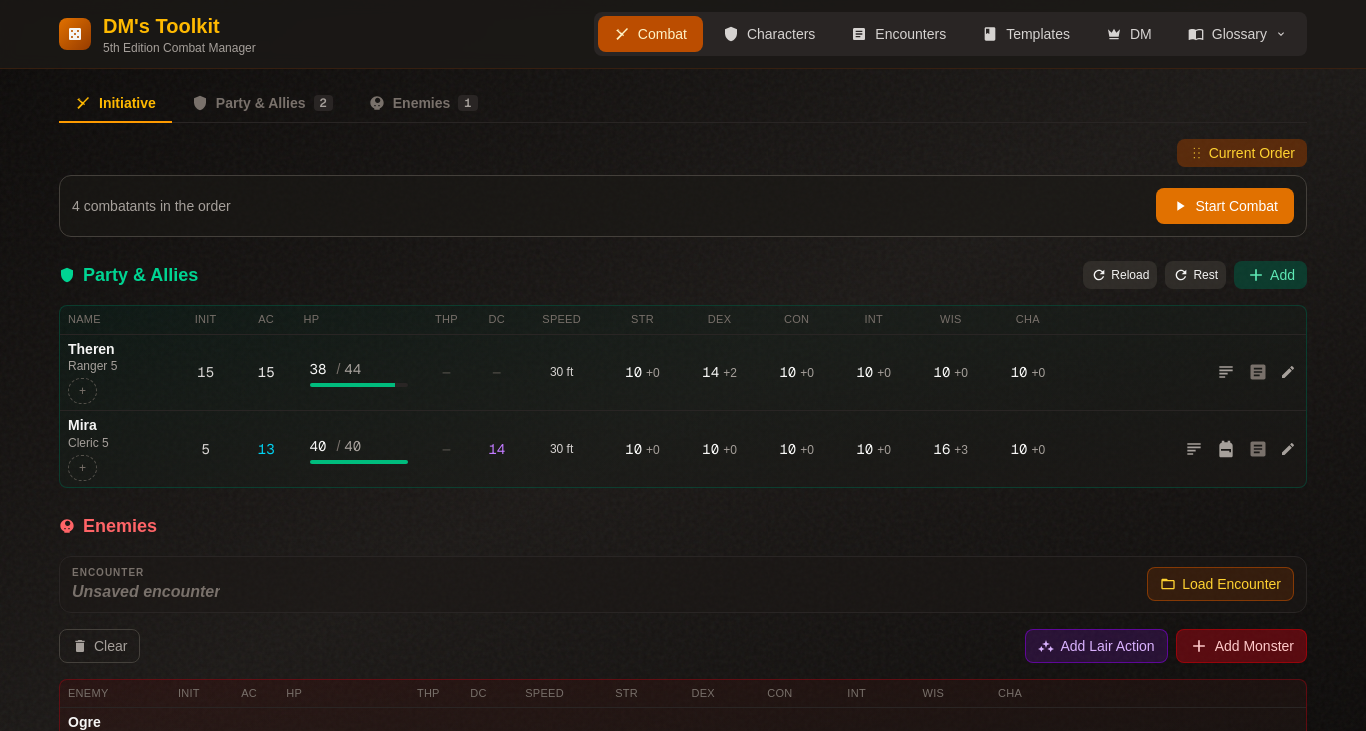
Test: CombatPage — turn tracker › is idle until combat starts, then points at the first combatant
Expected: the text "4 combatants in the order" is shown, [72,196,231,216]
Click the button "Start Combat". click: (1225, 206)
box: [1156,188,1294,224]
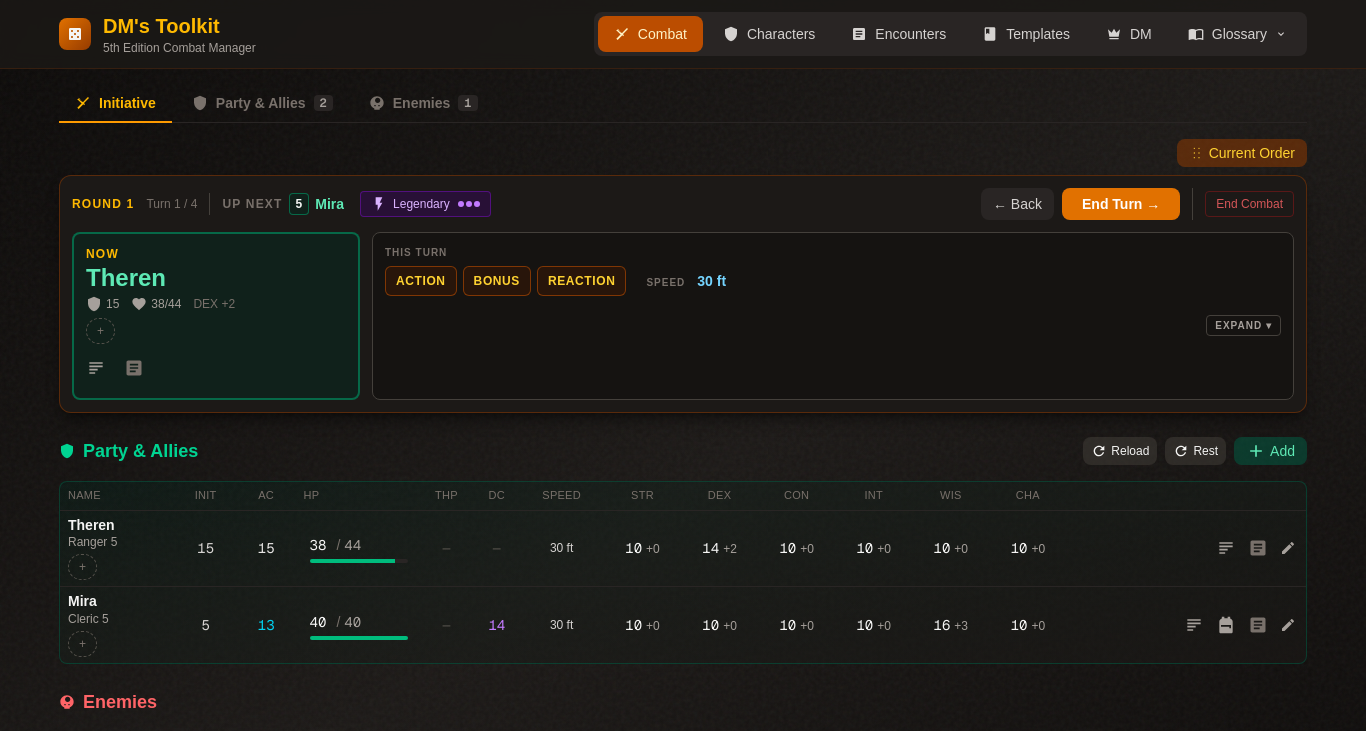
Expected: the text "Round 1" is shown, [72,196,134,212]
Expected: the text "Turn 1 / 4" is shown, [146,196,197,212]
Expected: the button "Theren" is shown, [86,262,166,294]
